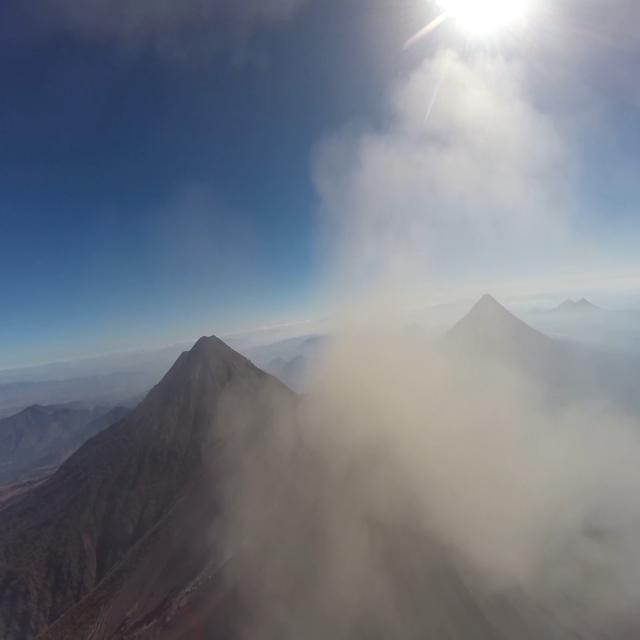Plume: (192, 258, 640, 640)
